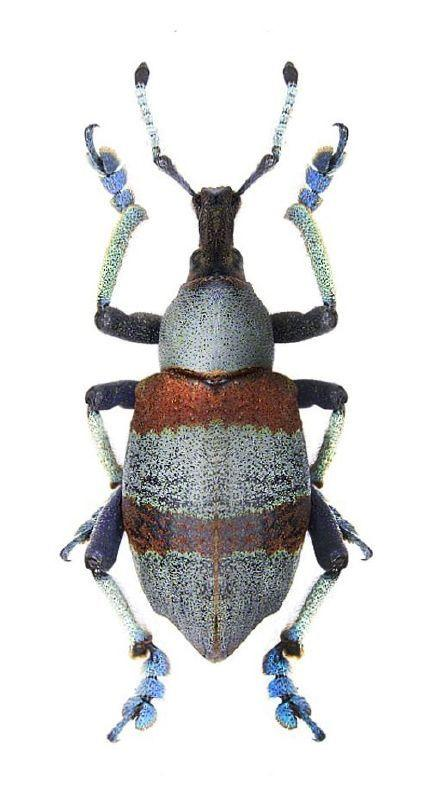Curculionidae: (58, 60, 373, 743)
